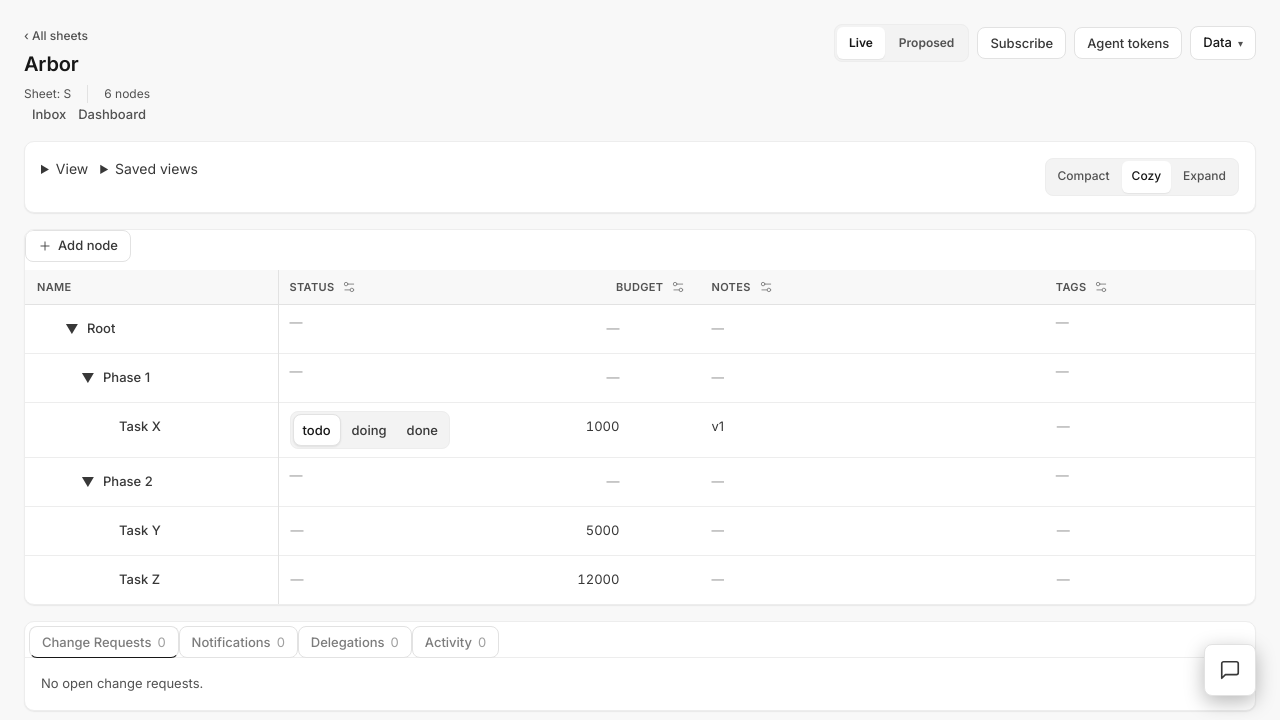
Test case: authoritative Outcome wins over client prediction (WEB_UI-020/-021/-086) › suggested arrives where the UI optimistically committed → value rolls back (WEB_UI-020)
Expected: the table with test id "tree-table" is shown, [25, 270, 1255, 604]
Click the element with test id "cell" showing "v1": (718, 426) [712, 418, 724, 434]
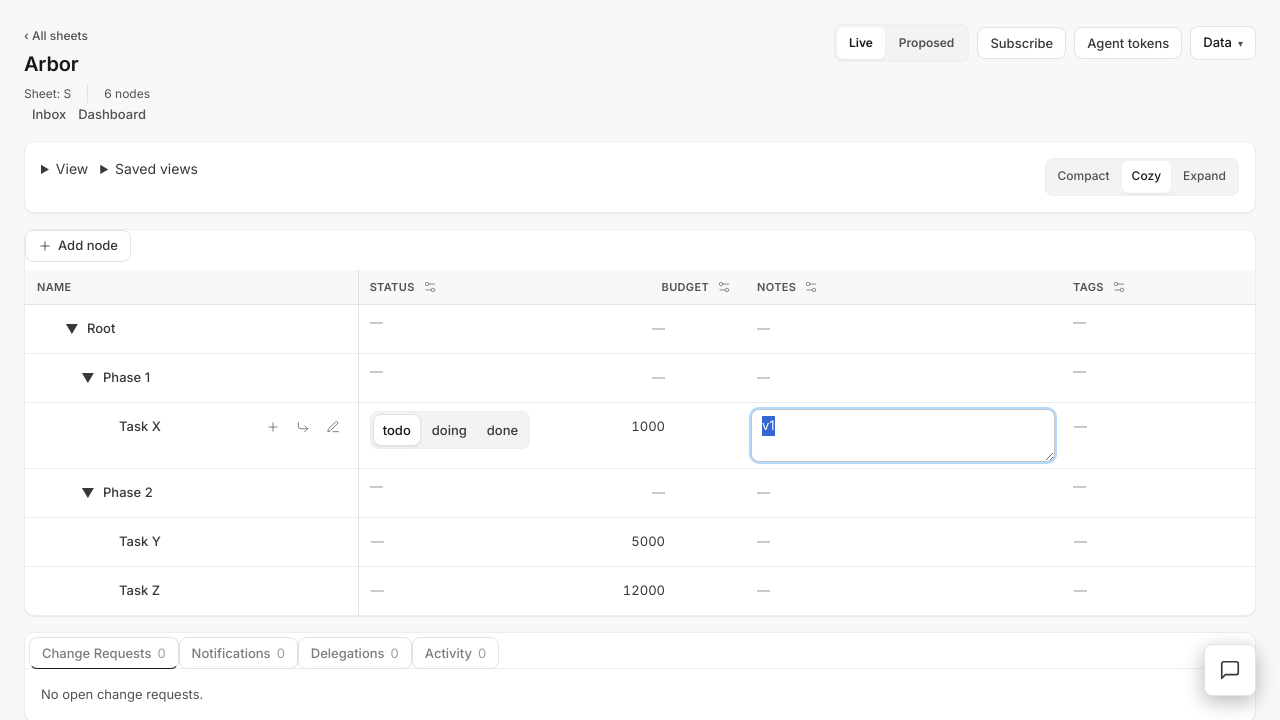
Replace the text in the text box with test id "cell-input" with "rolled-back text": (903, 436) [751, 409, 1055, 462]
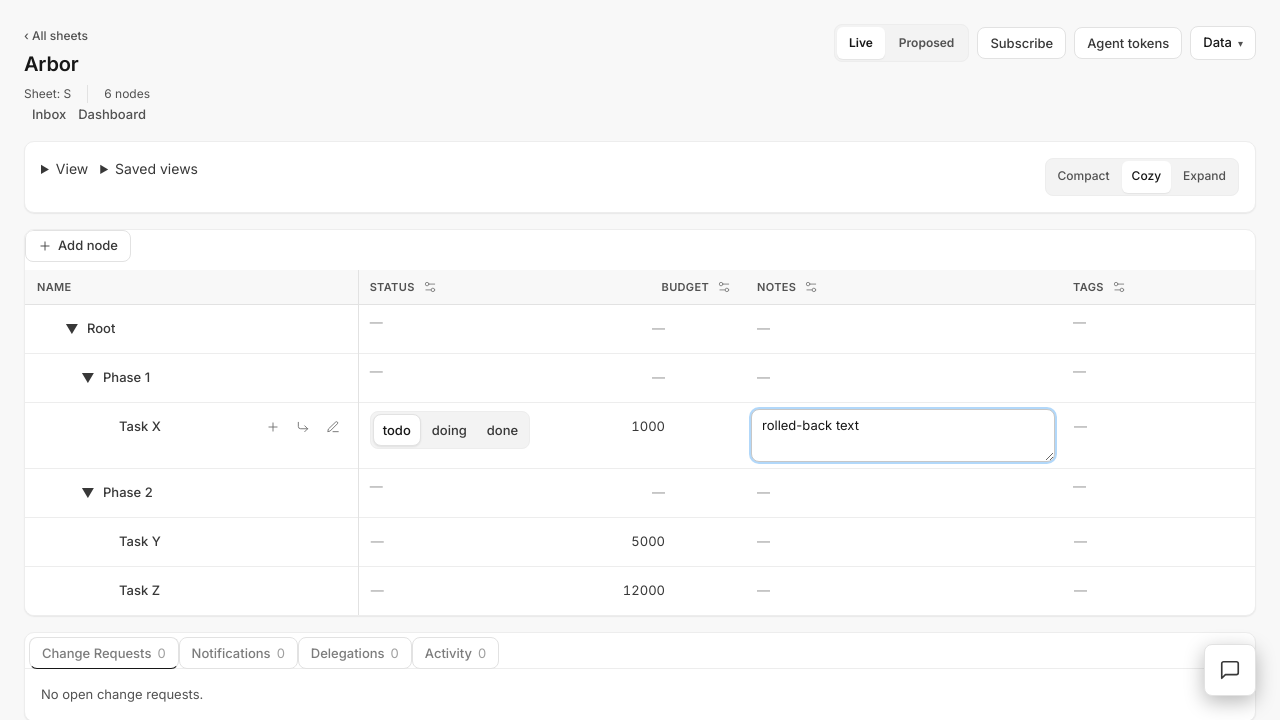
Leave the text box with test id "cell-input", box [751, 409, 1055, 462]
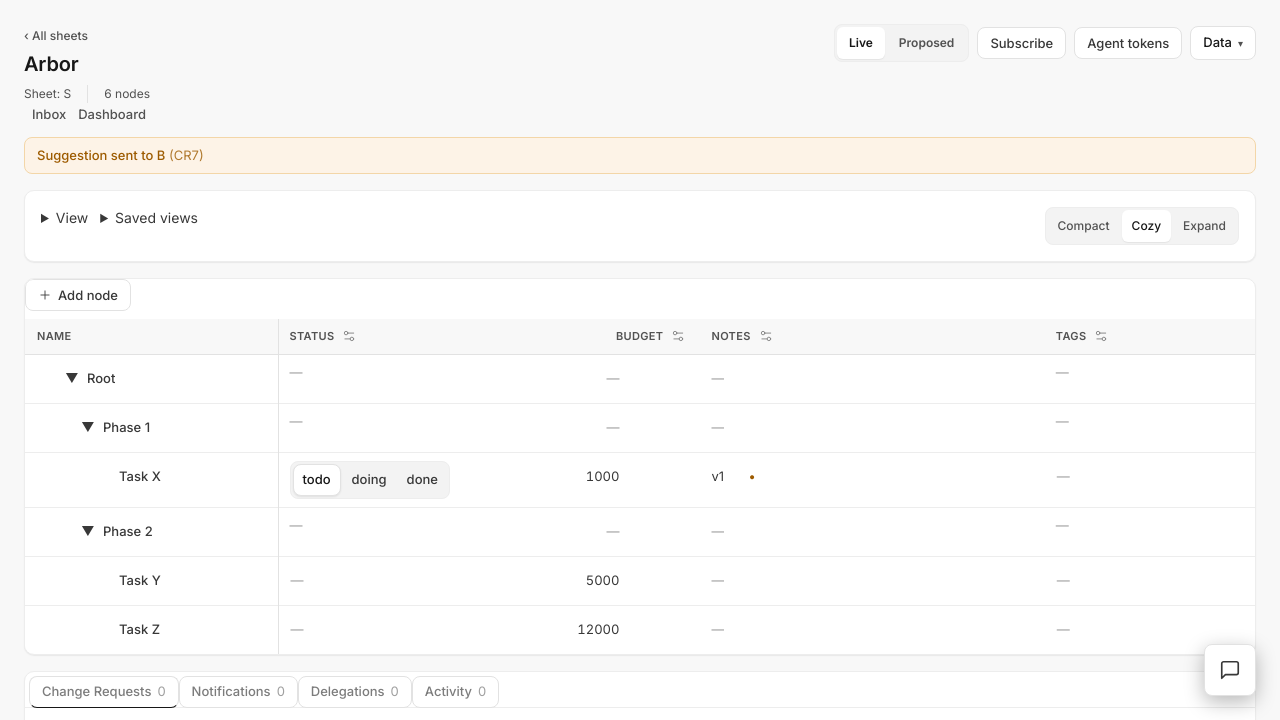
Expected: the element with test id "cell" does not show "rolled-back text", [712, 468, 755, 484]
Expected: the element with test id "cell" shows "v1", [712, 468, 724, 484]
